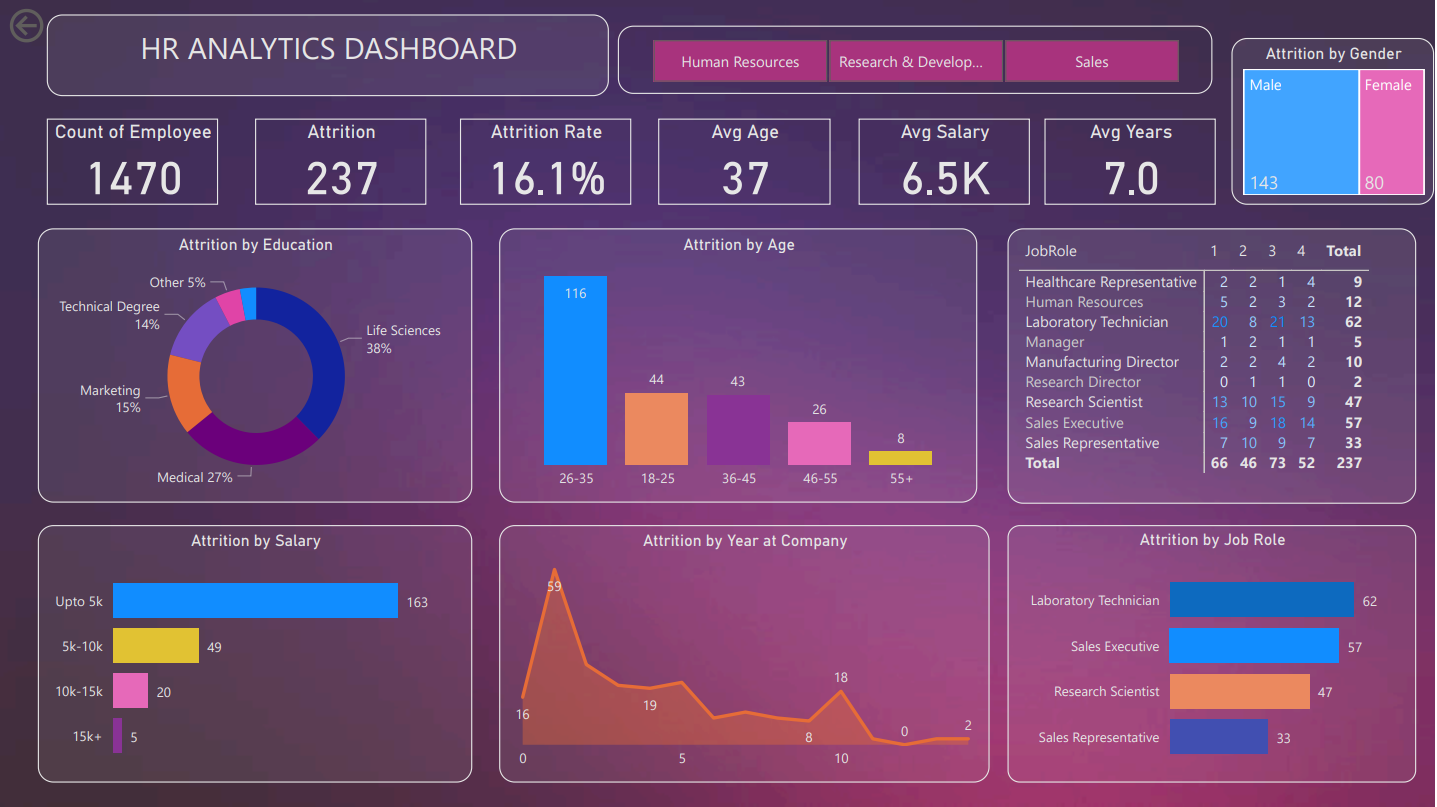

This screenshot's page, from the dashboard's own definition file:
{"tool":"powerbi","page":{"name":"Page 1","canvas":[1280,720],"ordinal":0},"visuals":[{"type":"card","title":"Count of Employee","fields":{"Values":["CountNonNull(HR_Analytics.EmployeeCount)"]},"box":[41,106.1,153.2,77.2],"z":0},{"type":"card","title":"Attrition","fields":{"Values":["Sum(HR_Analytics.Attrition Count)"]},"box":[226.7,106.1,153.2,77.2],"z":1000},{"type":"card","title":"Attrition Rate","fields":{"Values":["HR_Analytics.Attrition Rate"]},"box":[410.1,106.1,153.2,77.2],"z":2000},{"type":"card","title":"Avg Age","fields":{"Values":["Avg(HR_Analytics.Age)"]},"box":[587.3,106.1,153.2,77.2],"z":3000},{"type":"actionButton","box":[2.9,2.9,100,40],"z":4000},{"type":"card","title":"Avg Salary","fields":{"Values":["Avg(HR_Analytics.MonthlyIncome)"]},"box":[765.8,106.1,153.2,77.2],"z":5000},{"type":"card","title":"Avg Years","fields":{"Values":["Avg(HR_Analytics.YearsAtCompany)"]},"box":[932.3,106.1,153.2,77.2],"z":6000},{"type":"donutChart","title":"Attrition by Education","fields":{"Category":["HR_Analytics.EducationField"],"Y":["Sum(HR_Analytics.Attrition Count)"]},"box":[32.6,203.8,388.3,244.8],"z":7000},{"type":"columnChart","title":"Attrition by Age","fields":{"Category":["HR_Analytics.AgeGroup"],"Y":["Sum(HR_Analytics.Attrition Count)"]},"box":[445,203.8,426.9,244.8],"z":8000},{"type":"pivotTable","fields":{"Rows":["HR_Analytics.JobRole"],"Columns":["HR_Analytics.JobSatisfaction"],"Values":["Sum(HR_Analytics.Attrition Count)"]},"box":[899.4,204.3,364.7,245.4],"z":9000},{"type":"barChart","title":"Attrition by Salary","fields":{"Category":["HR_Analytics.SalarySlab"],"Y":["Sum(HR_Analytics.Attrition Count)"]},"box":[32.6,469.1,388.3,230.4],"z":10000},{"type":"barChart","title":"Attrition by Job Role","fields":{"Category":["HR_Analytics.JobRole"],"Y":["Sum(HR_Analytics.Attrition Count)"]},"box":[899.4,468.9,364.7,230.3],"z":11000},{"type":"areaChart","title":"Attrition by Year at Company","fields":{"Category":["HR_Analytics.YearsAtCompany"],"Y":["Sum(HR_Analytics.Attrition Count)"]},"box":[445,469.1,437.8,230.4],"z":11001},{"type":"treemap","title":"Attrition by Gender","fields":{"Group":["HR_Analytics.Gender"],"Values":["Sum(HR_Analytics.Attrition Count)"]},"box":[1098.7,33.8,180.9,149.5],"z":11002},{"type":"slicer","fields":{"Values":["HR_Analytics.Department"]},"box":[551.2,22.9,530.7,61.5],"z":11003},{"type":"textbox","box":[41,13.3,501.7,72.4],"z":11004}]}

Visuals, with their boxes in screenshot pixels (x1, y1, x2, y2):
"Count of Employee" card: 49, 117, 219, 203
"Attrition" card: 255, 117, 424, 203
"Attrition Rate" card: 458, 117, 627, 203
"Avg Age" card: 654, 117, 824, 203
actionButton: 7, 3, 118, 47
"Avg Salary" card: 852, 117, 1021, 203
"Avg Years" card: 1036, 117, 1206, 203
"Attrition by Education" donutChart: 40, 226, 470, 497
"Attrition by Age" columnChart: 496, 226, 969, 497
pivotTable - HR_Analytics.JobRole x HR_Analytics.JobSatisfaction: 1000, 226, 1403, 498
"Attrition by Salary" barChart: 40, 519, 470, 774
"Attrition by Job Role" barChart: 1000, 519, 1403, 774
"Attrition by Year at Company" areaChart: 496, 519, 981, 774
"Attrition by Gender" treemap: 1220, 37, 1420, 203
slicer - HR_Analytics.Department: 614, 25, 1202, 93
textbox: 49, 15, 605, 95
